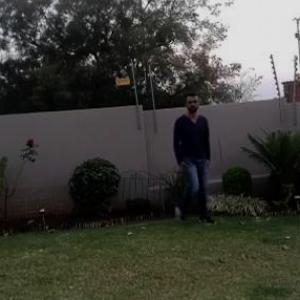follow: (157, 82, 217, 248)
